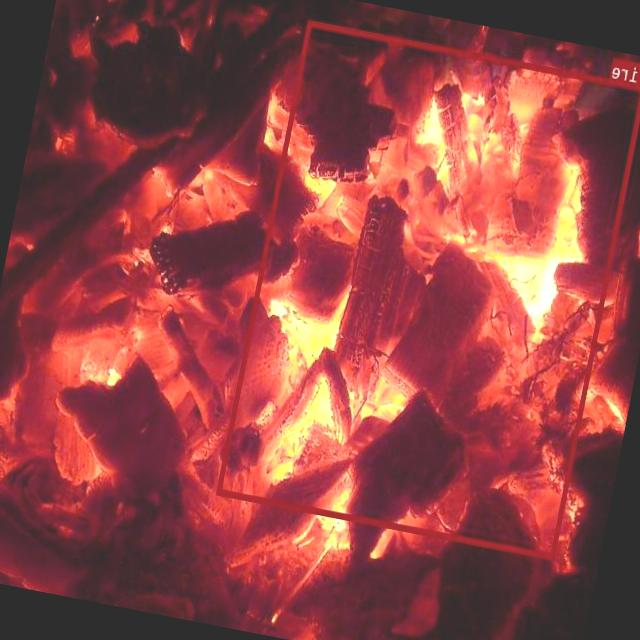fire: (217, 20, 640, 559)
